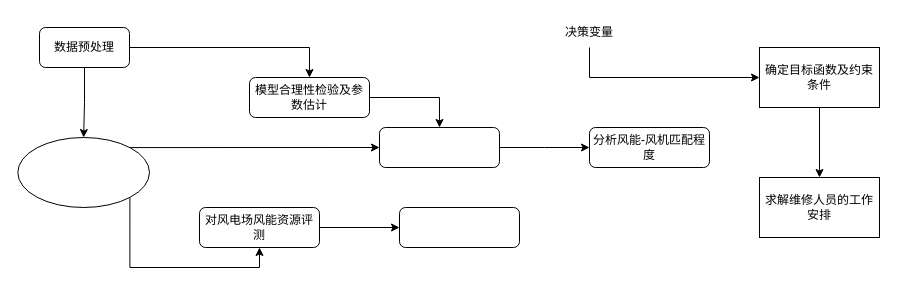
The diagram is 897 pixels wide and 293 high, and some of its shapes have lost their labels. Here are the shapes that lost their labels. From the top down, the centre of each, then its label:
(439,147): 计算各机型容量系数
(83,172): 选取评估风能资源的指标
(459,227): 计算风电场各月对风能资源的利用情况
